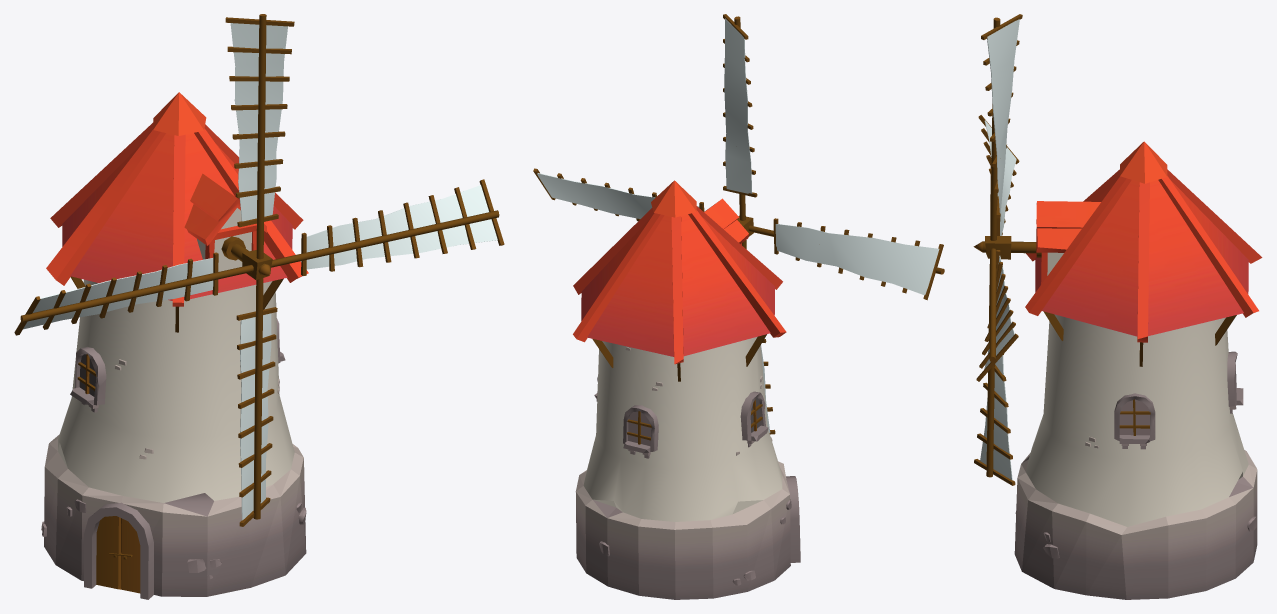
The model's file is Millwind.fbx.
The picture shows the model from 3 angles, left to right: view 1: azimuth 30°, elevation 25°; view 2: azimuth 150°, elevation 25°; view 3: azimuth 270°, elevation 25°; orthographic projection. The views are drawn at different scales.
Visible parts, largest first — view 1: Millwind, Millwind_Propeller; view 2: Millwind, Millwind_Propeller; view 3: Millwind, Millwind_Propeller.
Part boxes in pixels (x1,y1,x2,y2): Millwind: [41, 92, 308, 599]; Millwind_Propeller: [14, 14, 504, 526]; Millwind: [573, 180, 800, 599]; Millwind_Propeller: [533, 14, 944, 434]; Millwind: [1014, 141, 1262, 599]; Millwind_Propeller: [973, 14, 1036, 485].
Bounding box in the file's own units: 3.78 × 4.39 × 2.14.
